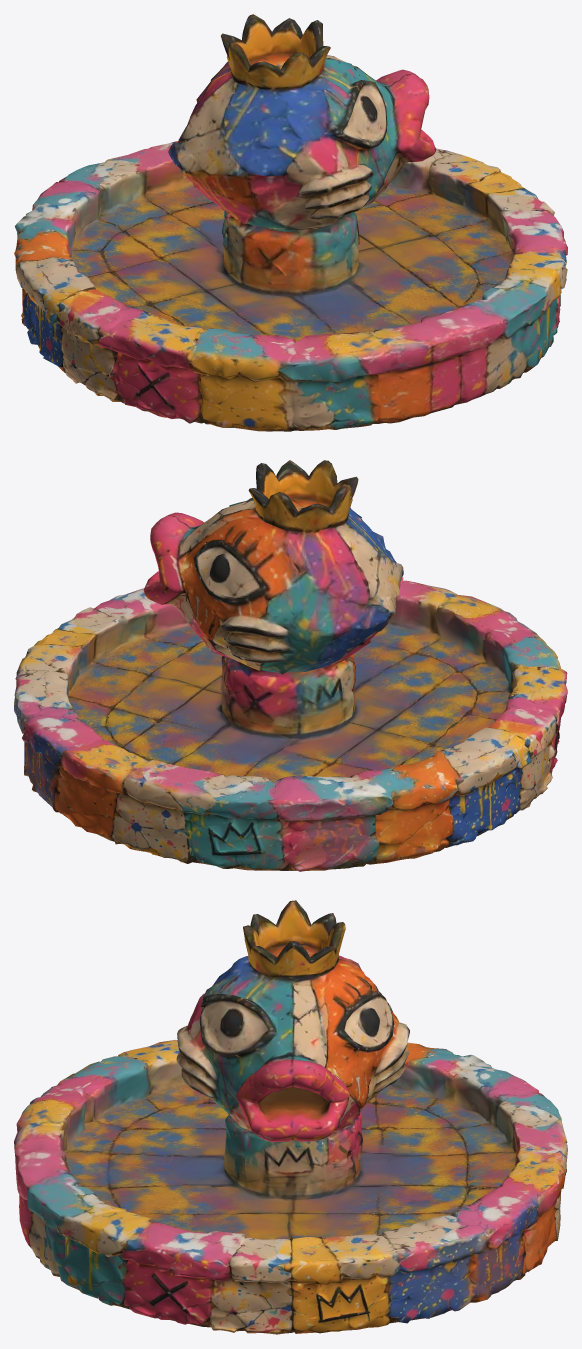
The model's file is fountain.glb.
3 renders of one model, top to bottom at view 1: azimuth 30°, elevation 25°; view 2: azimuth 150°, elevation 25°; view 3: azimuth 270°, elevation 25°, orthographic.
Visible parts, largest first — view 1: fountain; view 2: fountain; view 3: fountain.
Boxes of the visible parts, x1,y1,x2,y2 form: fountain: (14,14,567,431); fountain: (14,460,567,871); fountain: (14,900,567,1334).
Bounding box in the file's own units: 3.6 × 2.11 × 3.57.
Materials: 1 (1 with a texture image).
